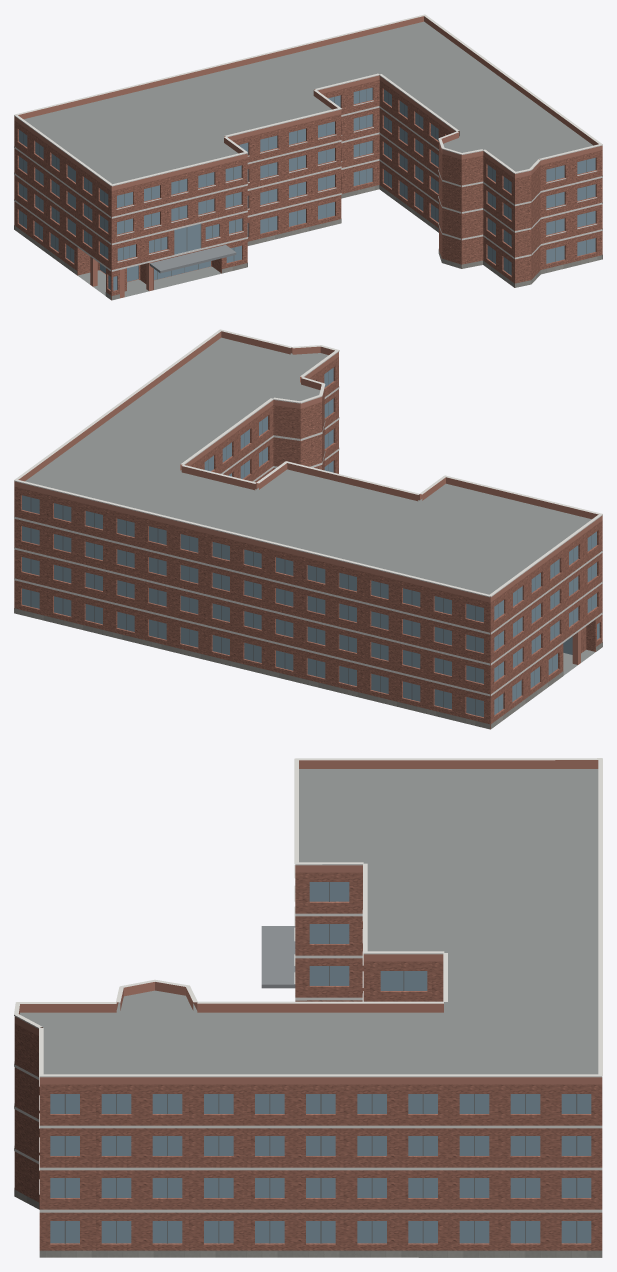
3 views of the same model, one above another, from view 1: azimuth 30°, elevation 25°; view 2: azimuth 150°, elevation 25°; view 3: azimuth 270°, elevation 25° (orthographic). The views are drawn at different scales.
Parts seen in each view (by area): view 1: humanities__wall, humanities__roof, humanities__glass, humanities__trim, humanities__parapet, humanities__base, humanities__frame, humanities__canopy, humanities__column; view 2: humanities__wall, humanities__roof, humanities__glass, humanities__trim, humanities__parapet, humanities__base, humanities__frame; view 3: humanities__roof, humanities__wall, humanities__glass, humanities__trim, humanities__parapet, humanities__base, humanities__canopy, humanities__frame.
Part boxes in pixels (box(x1,y1,x2,y2)): humanities__wall: box(14, 80, 602, 300); humanities__roof: box(24, 21, 592, 297); humanities__glass: box(19, 87, 595, 290); humanities__trim: box(14, 14, 602, 271); humanities__parapet: box(14, 16, 602, 190); humanities__base: box(14, 185, 602, 300); humanities__frame: box(23, 89, 586, 279); humanities__canopy: box(149, 245, 236, 273); humanities__column: box(90, 257, 153, 298); humanities__wall: box(14, 357, 602, 729); humanities__roof: box(25, 337, 595, 675); humanities__glass: box(22, 367, 599, 717); humanities__trim: box(14, 329, 602, 696); humanities__parapet: box(14, 331, 602, 602); humanities__base: box(14, 608, 602, 729); humanities__frame: box(30, 371, 591, 715); humanities__roof: box(20, 769, 601, 1257); humanities__wall: box(14, 872, 602, 1250); humanities__glass: box(50, 882, 591, 1243); humanities__trim: box(14, 758, 602, 1212); humanities__parapet: box(14, 760, 602, 1084); humanities__base: box(14, 1188, 602, 1257); humanities__canopy: box(261, 926, 295, 988); humanities__frame: box(64, 882, 577, 1243).
Size of the model in its own units: 58.37 by 15.57 by 45.68.
Materials: 11 (2 with a texture image).
